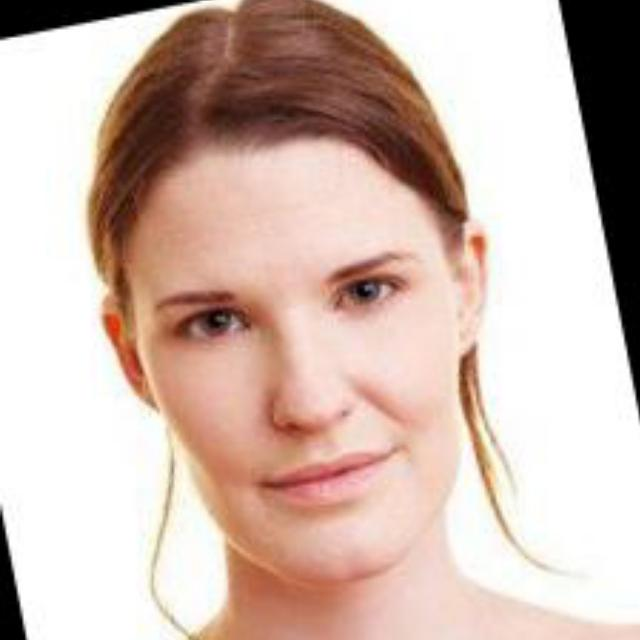Natural: (64, 110, 534, 584)
